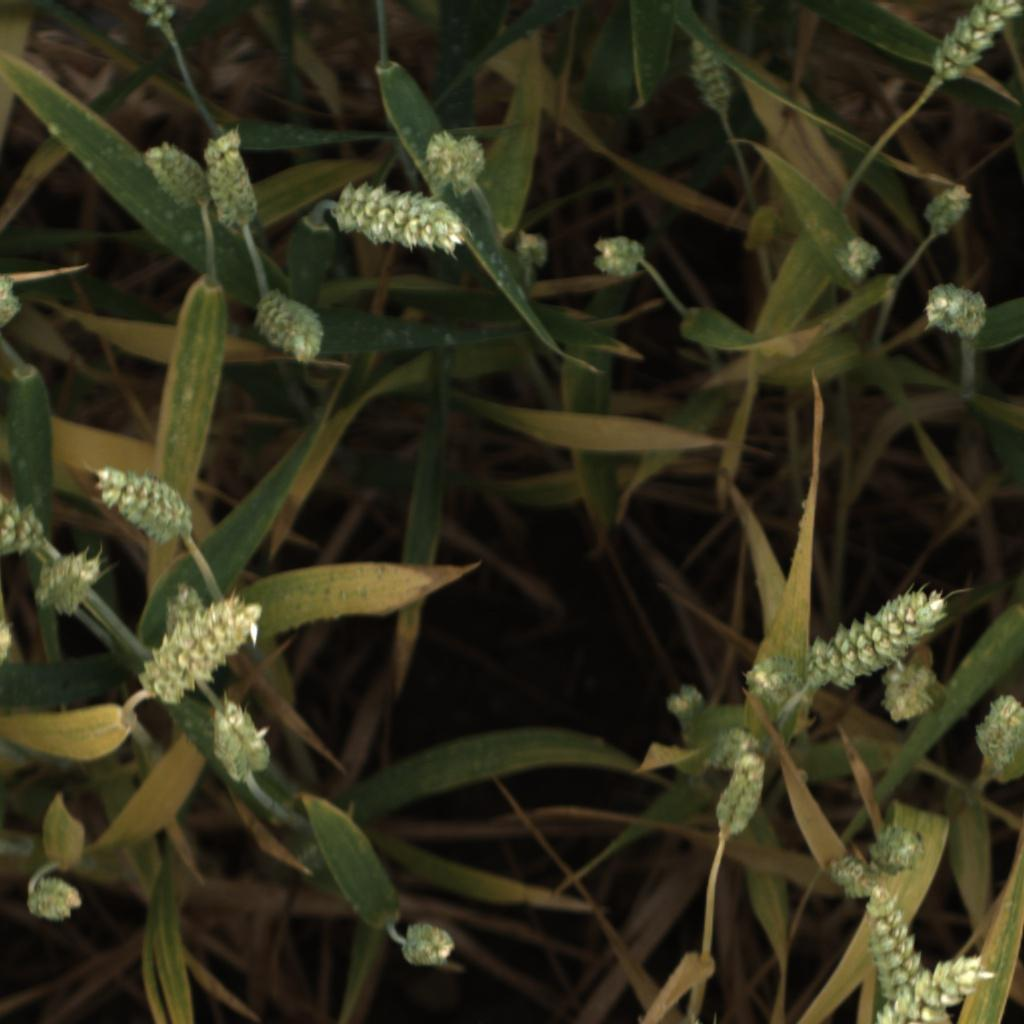0-0: (806, 580, 952, 695), (134, 590, 268, 709), (319, 175, 478, 256), (866, 940, 1006, 1024), (92, 455, 203, 548), (923, 1, 1024, 89), (857, 885, 936, 994), (732, 648, 824, 729), (707, 749, 781, 841), (203, 122, 266, 229), (250, 286, 331, 369), (33, 545, 111, 631), (415, 123, 497, 202), (140, 131, 211, 219), (208, 697, 275, 786), (963, 688, 1024, 783), (862, 811, 935, 884), (683, 31, 742, 118), (873, 666, 946, 731), (913, 175, 979, 243), (24, 869, 94, 933), (919, 278, 992, 339), (395, 918, 462, 978), (0, 488, 52, 564), (823, 847, 886, 903), (662, 681, 708, 751), (707, 717, 762, 773), (833, 233, 885, 289), (161, 580, 211, 636), (587, 235, 650, 279), (510, 224, 554, 278), (125, 1, 183, 36), (0, 267, 27, 333)
